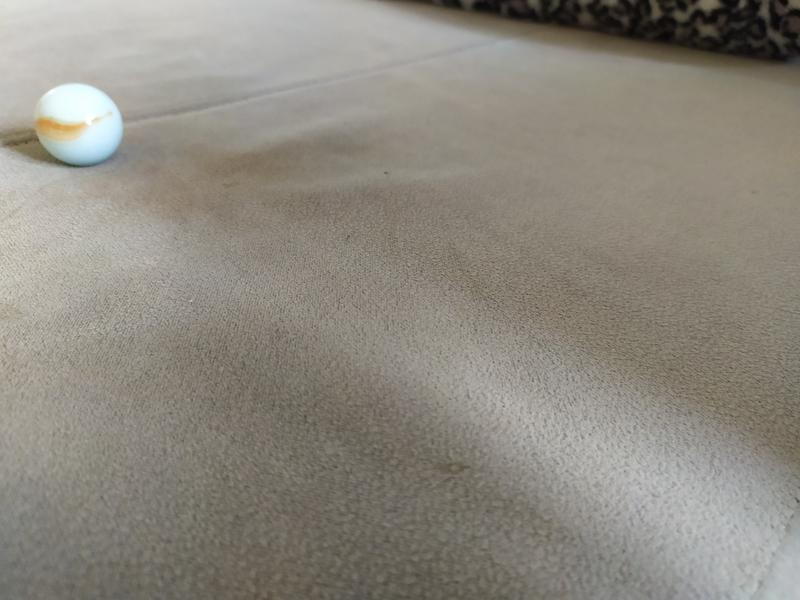Warning: (31, 79, 127, 169)
